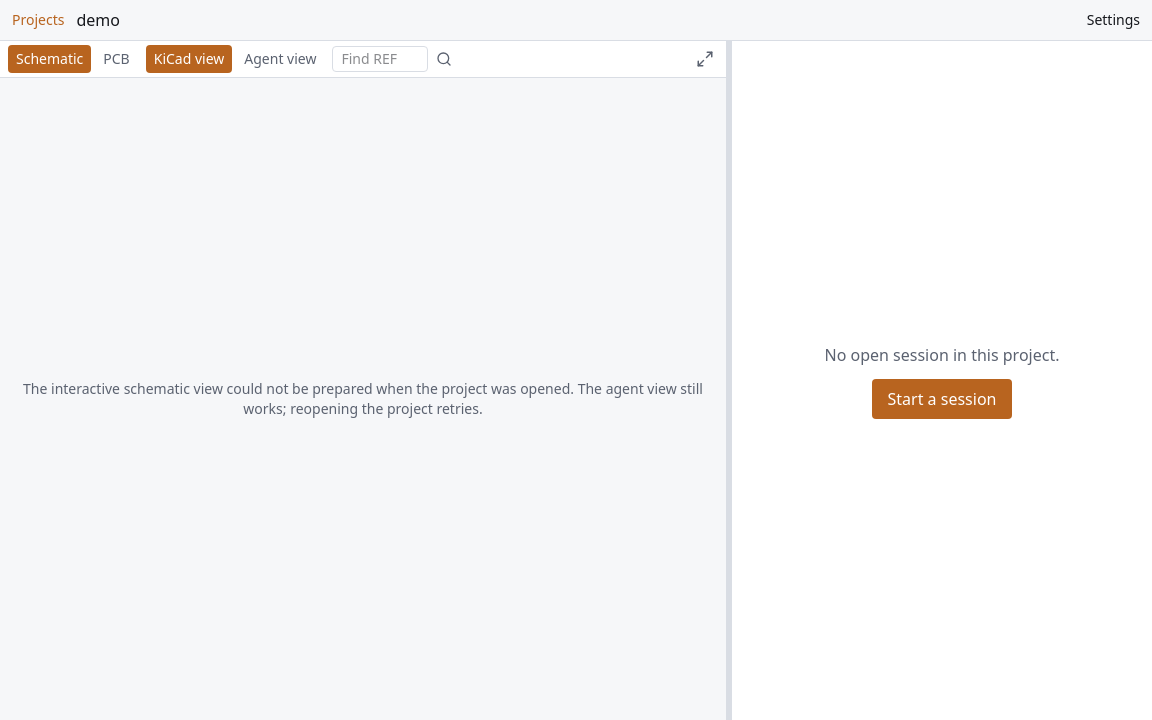
ProjectPage › an empty project shows "Start a session" (nothing is created by itself)
Step 1. Click the button "Start a session" → (942, 398), box x1=872 y1=378 x2=1012 y2=418
(page scrolled)
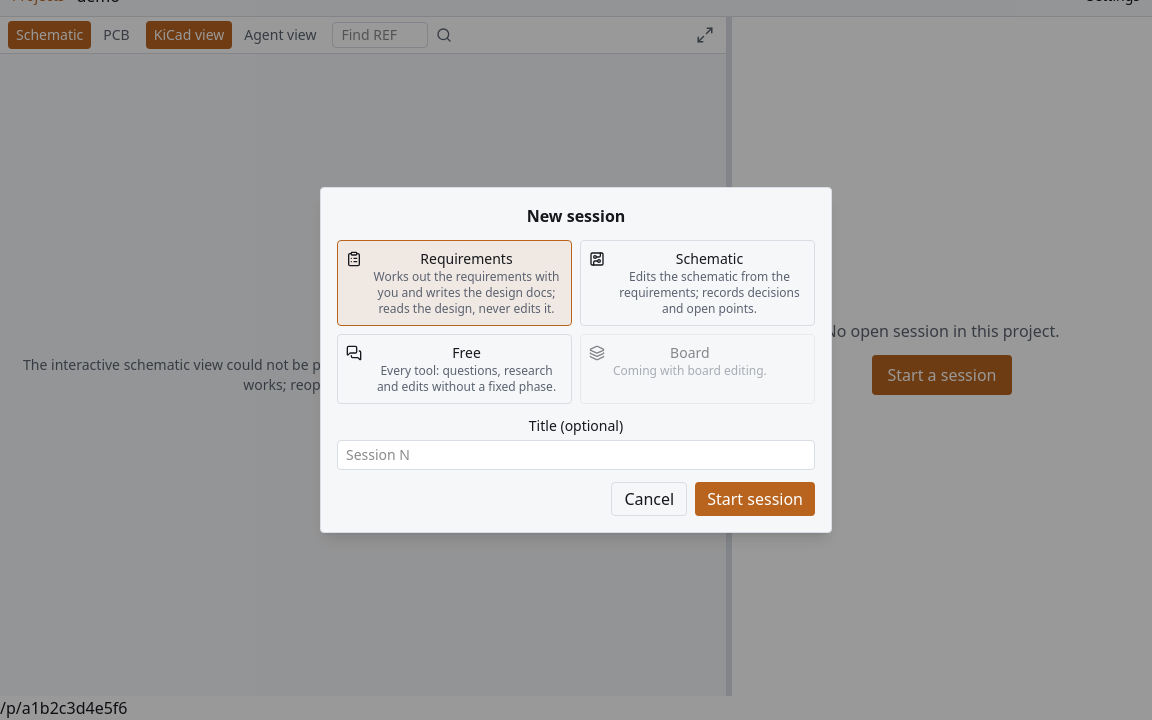
Now the dialog "New session" is shown
